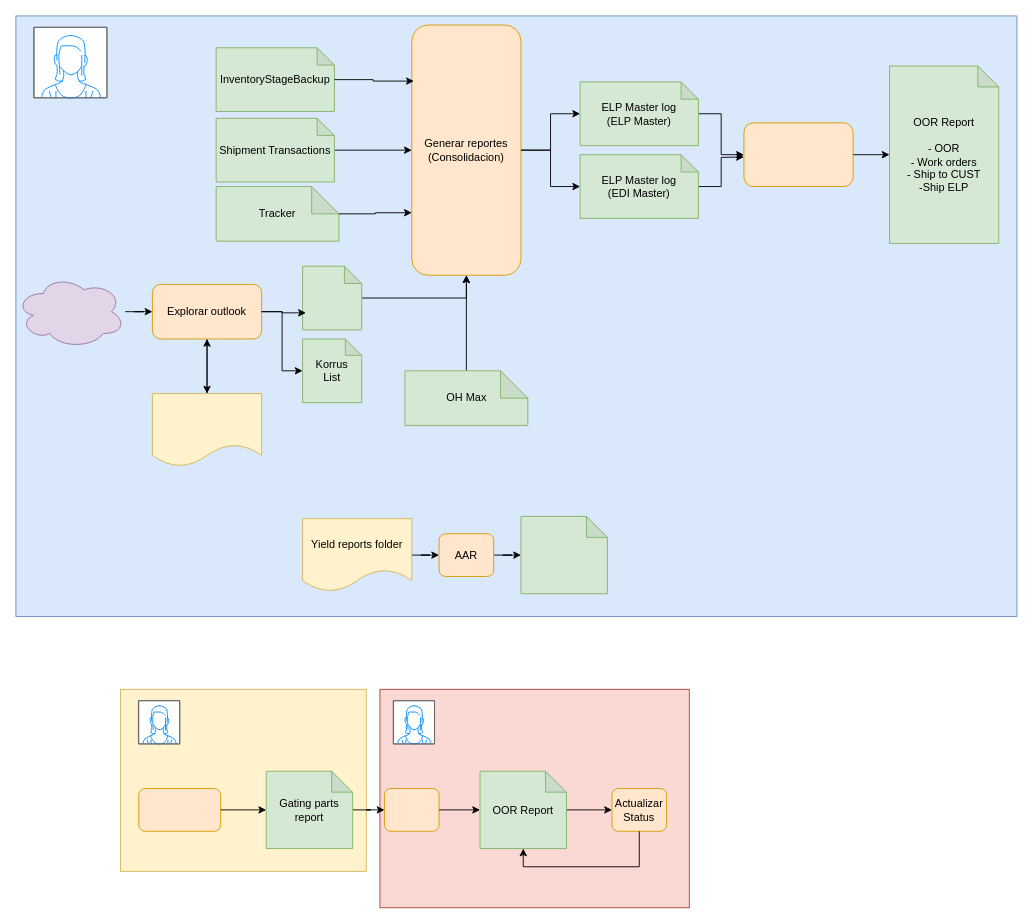
The diagram is 1033 pixels wide and 924 high, and some of its shapes have lost their labels. The box of each missing label's shape, as (x1, y1, x2, y2) in pixels:
Clear To build: (138, 788, 221, 831)
Email: (15, 274, 125, 348)
folder "attachments": (152, 393, 262, 466)
Generar Reportes (OOR Report): (743, 122, 853, 187)
Integrar Gating parts: (384, 788, 439, 831)
Korrus Data: (302, 265, 362, 330)
OOR Report - Daily Status: (520, 516, 607, 594)
